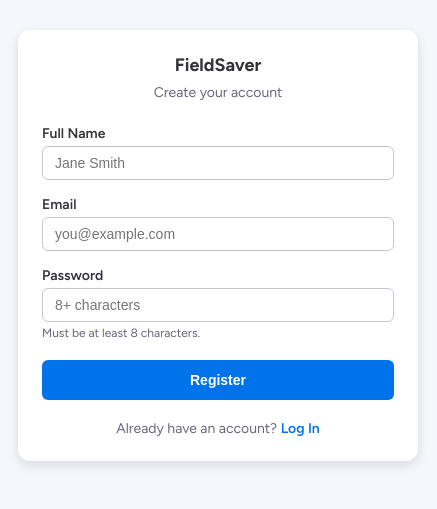
Test case: RegisterPage › should show error when email is invalid
Type "Jane" into the field with placeholder "Jane Smith".
click(218, 162); type("Jane")  # box x1=42 y1=146 x2=394 y2=180
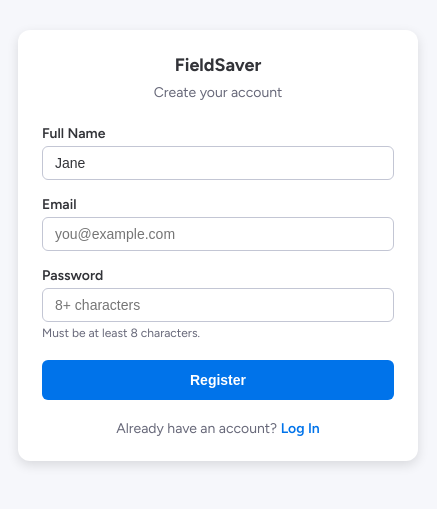
Type "not-an-email" into the field with placeholder "you@example.com".
click(218, 234); type("not-an-email")  # box x1=42 y1=216 x2=394 y2=250
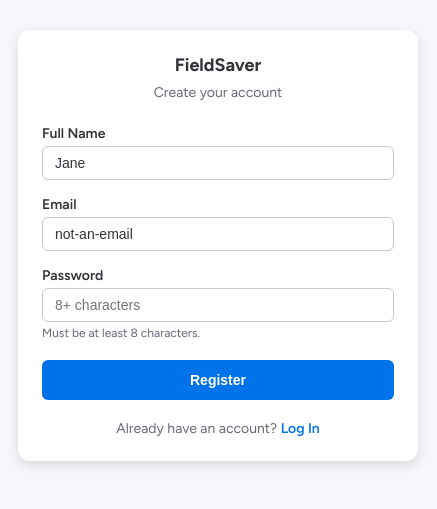
Type "password123" into the password field with placeholder "8+ characters".
click(218, 304); type("password123")  # box x1=42 y1=288 x2=394 y2=322
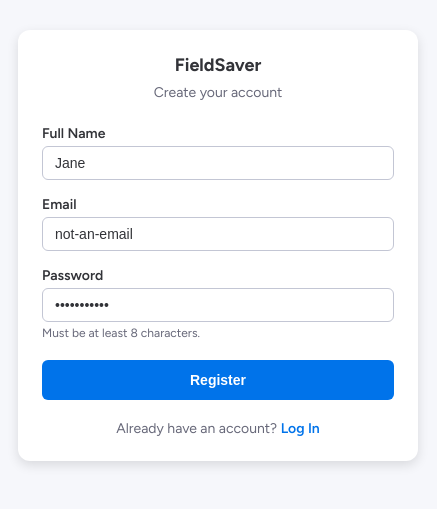
Click the button "Register".
click(218, 380)  # box x1=42 y1=360 x2=394 y2=400
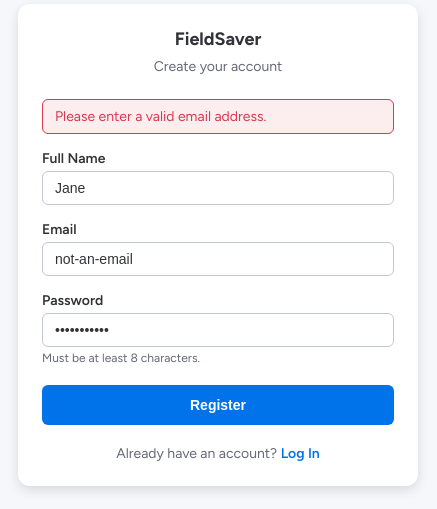
Expected: the text "Please enter a valid email address." is shown, x1=42 y1=99 x2=394 y2=134
